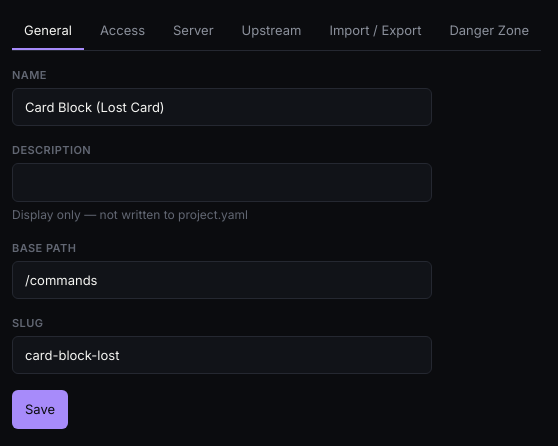
Test: SettingsTabs › shows read-only server facts
Click the tab "Server": (193, 31) [161,12,226,50]
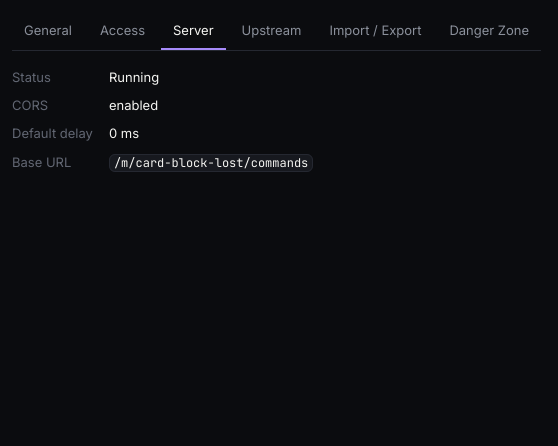
Expected: the text "enabled" is shown, [109,97,158,113]
Expected: the text "0 ms" is shown, [109,125,139,141]
